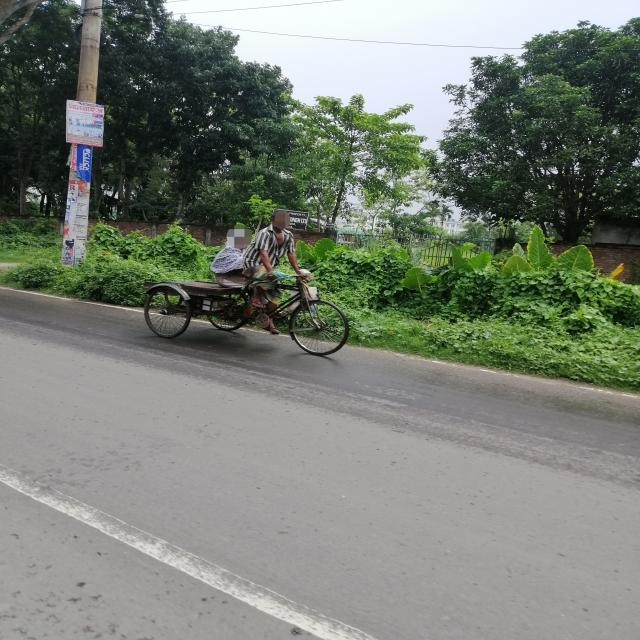Van: (137, 257, 355, 363)
